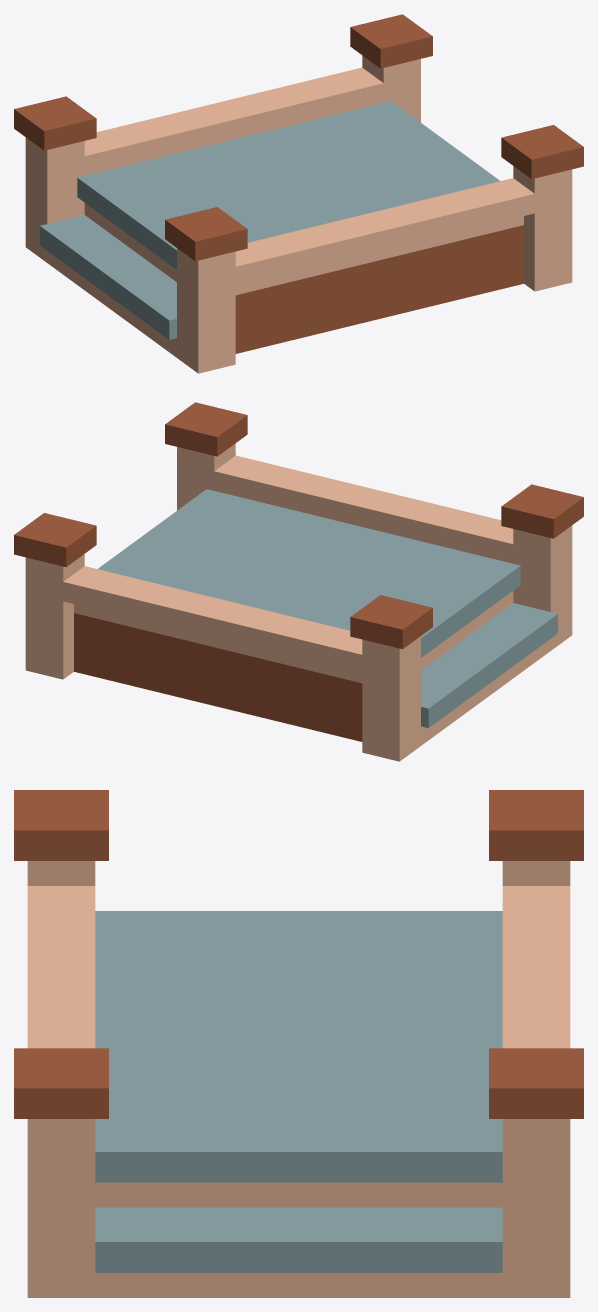
The model's file is bridge_woodNarrow.glb.
3 views of the same model, one above another, from view 1: azimuth 30°, elevation 25°; view 2: azimuth 150°, elevation 25°; view 3: azimuth 270°, elevation 25° (orthographic). The views are drawn at different scales.
Parts seen in each view (by area): view 1: bridge_woodNarrow; view 2: bridge_woodNarrow; view 3: bridge_woodNarrow.
Part boxes in pixels (x1,y1,x2,y2): bridge_woodNarrow: [14, 14, 583, 373]; bridge_woodNarrow: [14, 402, 583, 761]; bridge_woodNarrow: [14, 790, 583, 1297].
Bounding box in the file's own units: 1.04 × 0.35 × 0.84.
